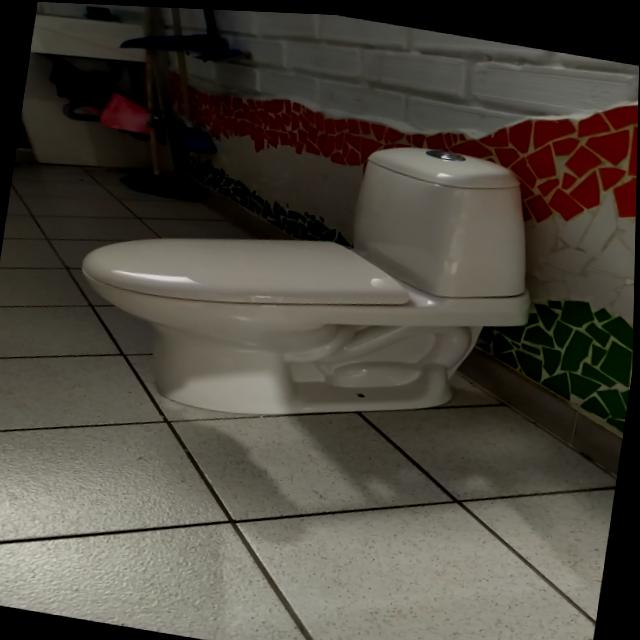toilet: (64, 90, 553, 457)
